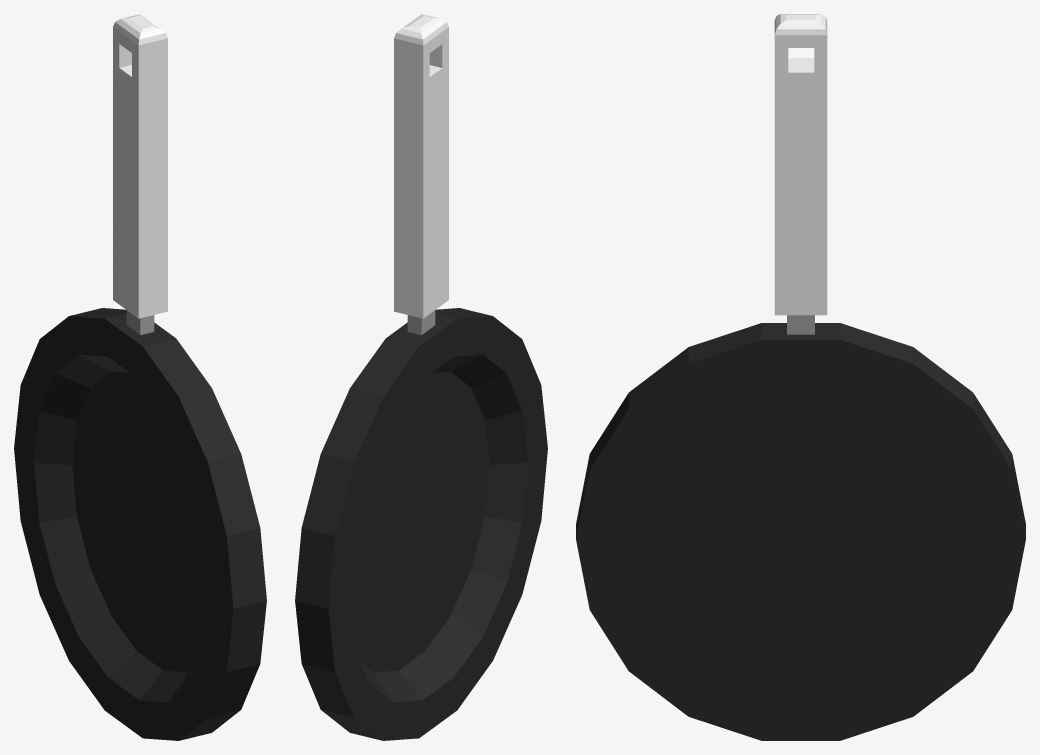
Rendered from Pan_2.fbx.
3 renders of one model, left to right at view 1: azimuth 30°, elevation 25°; view 2: azimuth 150°, elevation 25°; view 3: azimuth 270°, elevation 25°, orthographic. The views are drawn at different scales.
Visible parts, largest first — view 1: Pan_2; view 2: Pan_2; view 3: Pan_2.
Boxes of the visible parts, box(x1,y1,x2,y2) form: Pan_2: box(14, 14, 266, 740); Pan_2: box(295, 14, 547, 740); Pan_2: box(576, 14, 1025, 740).
Size of the model in its own units: 0.0139 by 0.2761 by 0.1574.
